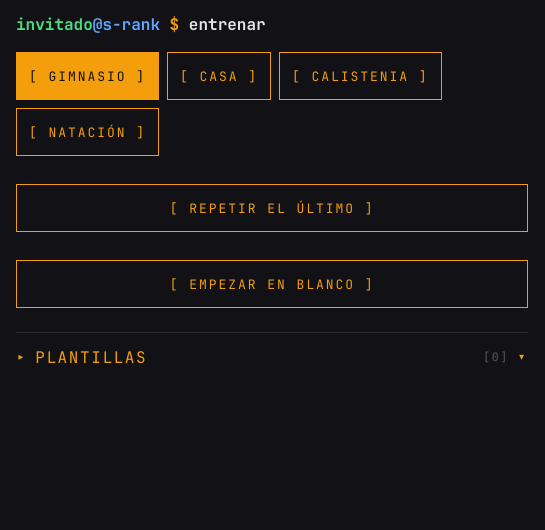
Test case: si no cabe en el móvil se avisa y no se pasa a una pantalla vacía
The width and height of the screenshot is (545, 530).
Click the button "[ EMPEZAR EN BLANCO ]" at (272, 284), box [16,260,528,308]
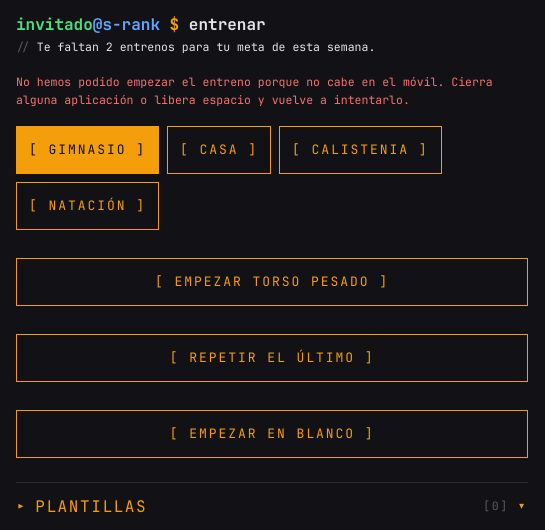
Expected: the message shows "libera espacio", [16,74,493,107]
